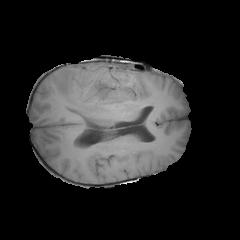glioma: (52, 70, 169, 130)
